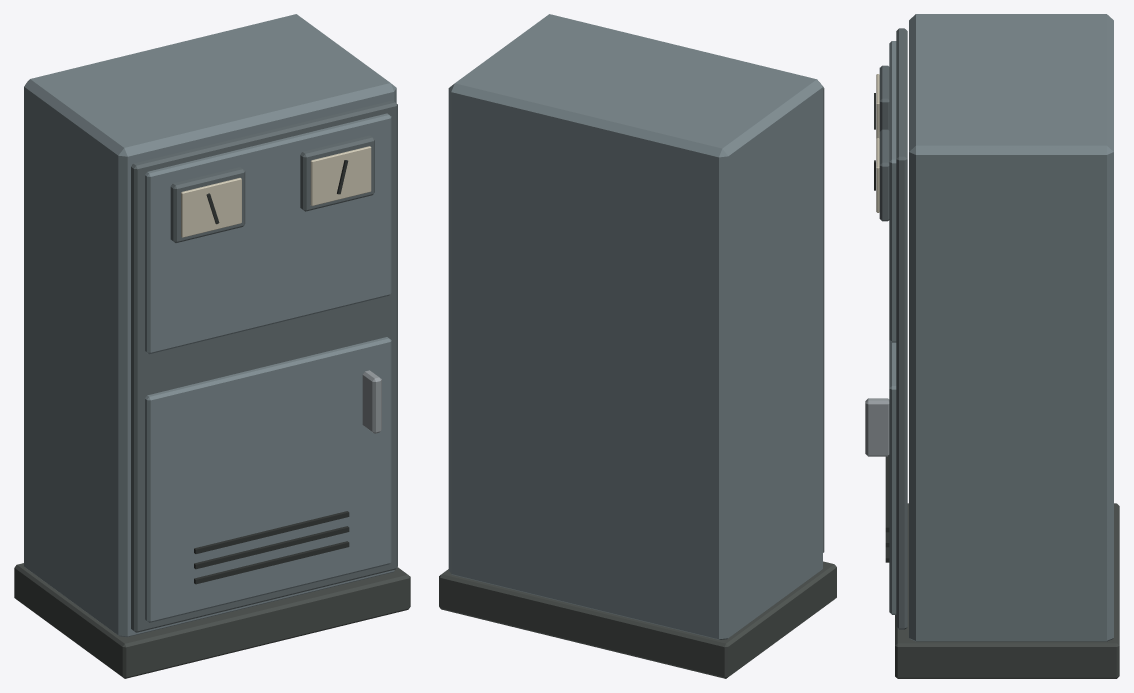
The model's file is power_cabinet.glb.
3 renders of one model, left to right at view 1: azimuth 30°, elevation 25°; view 2: azimuth 150°, elevation 25°; view 3: azimuth 270°, elevation 25°, orthographic.
Parts seen in each view (by area): view 1: Enclosure, Lower door, Instrument fascia, Door backing, Plinth, Meter face.001, Meter face, Meter bezel, Meter bezel.001, Door handle, Vent slot.001, Vent slot.002 (+1 smaller); view 2: Enclosure, Plinth, Door backing; view 3: Enclosure, Plinth, Door backing, Instrument fascia, Lower door, Door handle, Meter bezel.001, Meter bezel.
Part boxes in pixels (x1=…): Enclosure: x1=24, y1=14, x2=396, y2=636; Lower door: x1=145, y1=337, x2=391, y2=622; Instrument fascia: x1=145, y1=113, x2=391, y2=354; Door backing: x1=131, y1=100, x2=397, y2=632; Plinth: x1=14, y1=563, x2=410, y2=678; Meter face.001: x1=310, y1=146, x2=371, y2=205; Meter face: x1=181, y1=178, x2=241, y2=237; Meter bezel: x1=170, y1=167, x2=245, y2=242; Meter bezel.001: x1=300, y1=135, x2=374, y2=211; Door handle: x1=362, y1=370, x2=381, y2=433; Vent slot.001: x1=194, y1=526, x2=349, y2=569; Vent slot.002: x1=194, y1=511, x2=349, y2=553; Enclosure: x1=448, y1=14, x2=822, y2=639; Plinth: x1=439, y1=561, x2=836, y2=678; Door backing: x1=822, y1=85, x2=824, y2=552; Enclosure: x1=909, y1=14, x2=1113, y2=641; Plinth: x1=895, y1=503, x2=1119, y2=678; Door backing: x1=896, y1=28, x2=907, y2=629; Instrument fascia: x1=889, y1=41, x2=896, y2=342; Lower door: x1=889, y1=340, x2=896, y2=614; Door handle: x1=865, y1=398, x2=889, y2=456; Meter bezel.001: x1=879, y1=129, x2=889, y2=221; Meter bezel: x1=879, y1=65, x2=889, y2=131.
Size of the model in its own units: 1.2 by 2.08 by 0.905.
